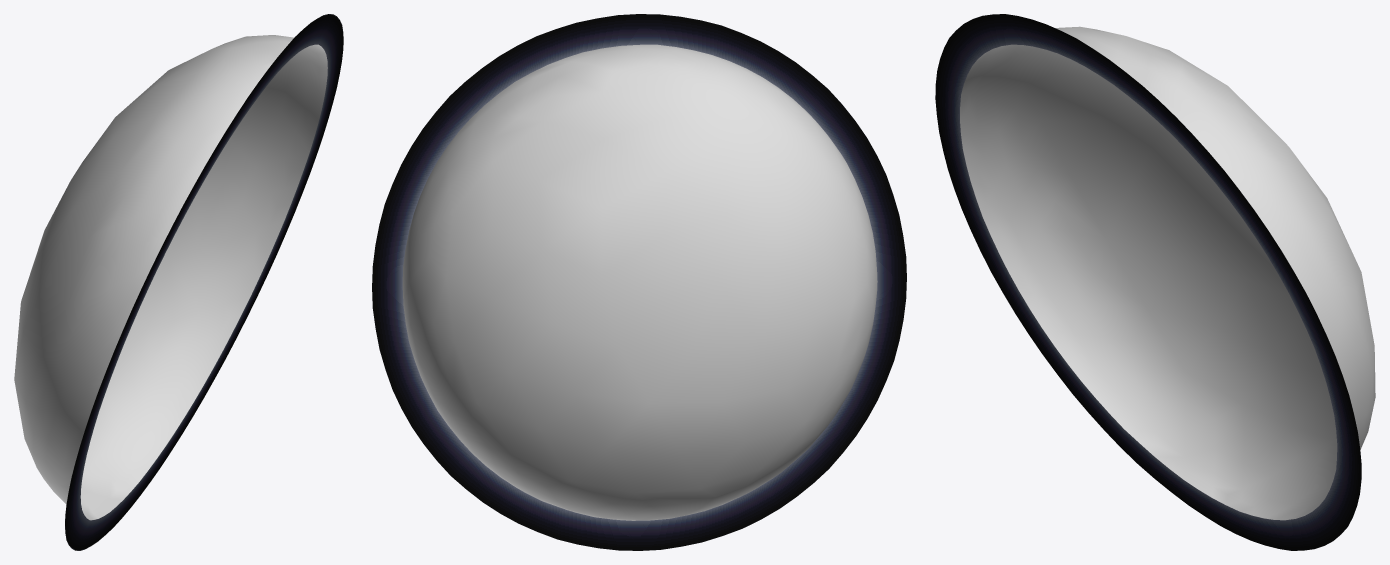
The model's file is env_space_crait_01_pre.glb.
The picture shows the model from 3 angles, left to right: view 1: azimuth 30°, elevation 25°; view 2: azimuth 150°, elevation 25°; view 3: azimuth 270°, elevation 25°; orthographic projection. The views are drawn at different scales.
Parts seen in each view (by area): view 1: polySurface1; view 2: polySurface1; view 3: polySurface1.
Boxes of the visible parts, x1,y1,x2,y2 form: polySurface1: [14, 14, 343, 550]; polySurface1: [372, 14, 906, 550]; polySurface1: [935, 14, 1375, 550].
Bounding box in the file's own units: 563 × 663 × 483.
2 materials, 1 textured.
